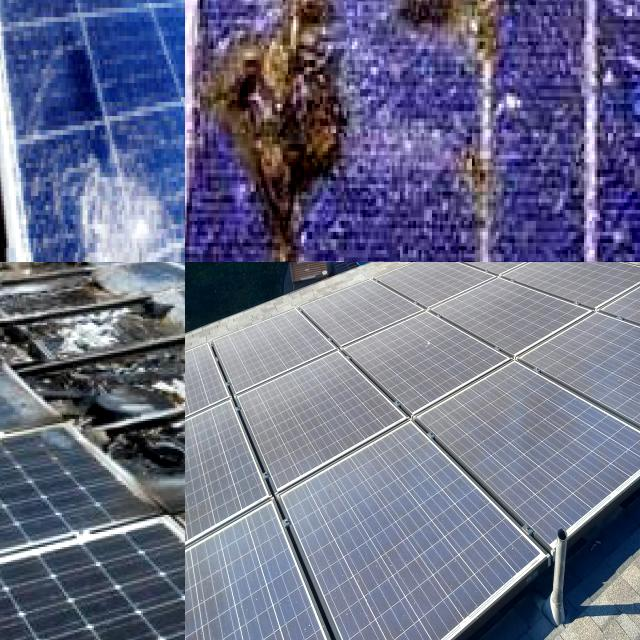dust: (399, 313, 457, 372)
hotspot: (40, 141, 185, 262)
shadow: (197, 0, 397, 262), (409, 0, 544, 258), (22, 290, 138, 395), (76, 333, 185, 436), (137, 374, 185, 502), (0, 262, 68, 325), (137, 284, 185, 333)
